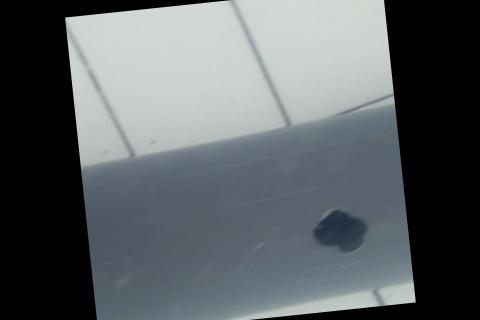kebocoran: (305, 204, 372, 258)
